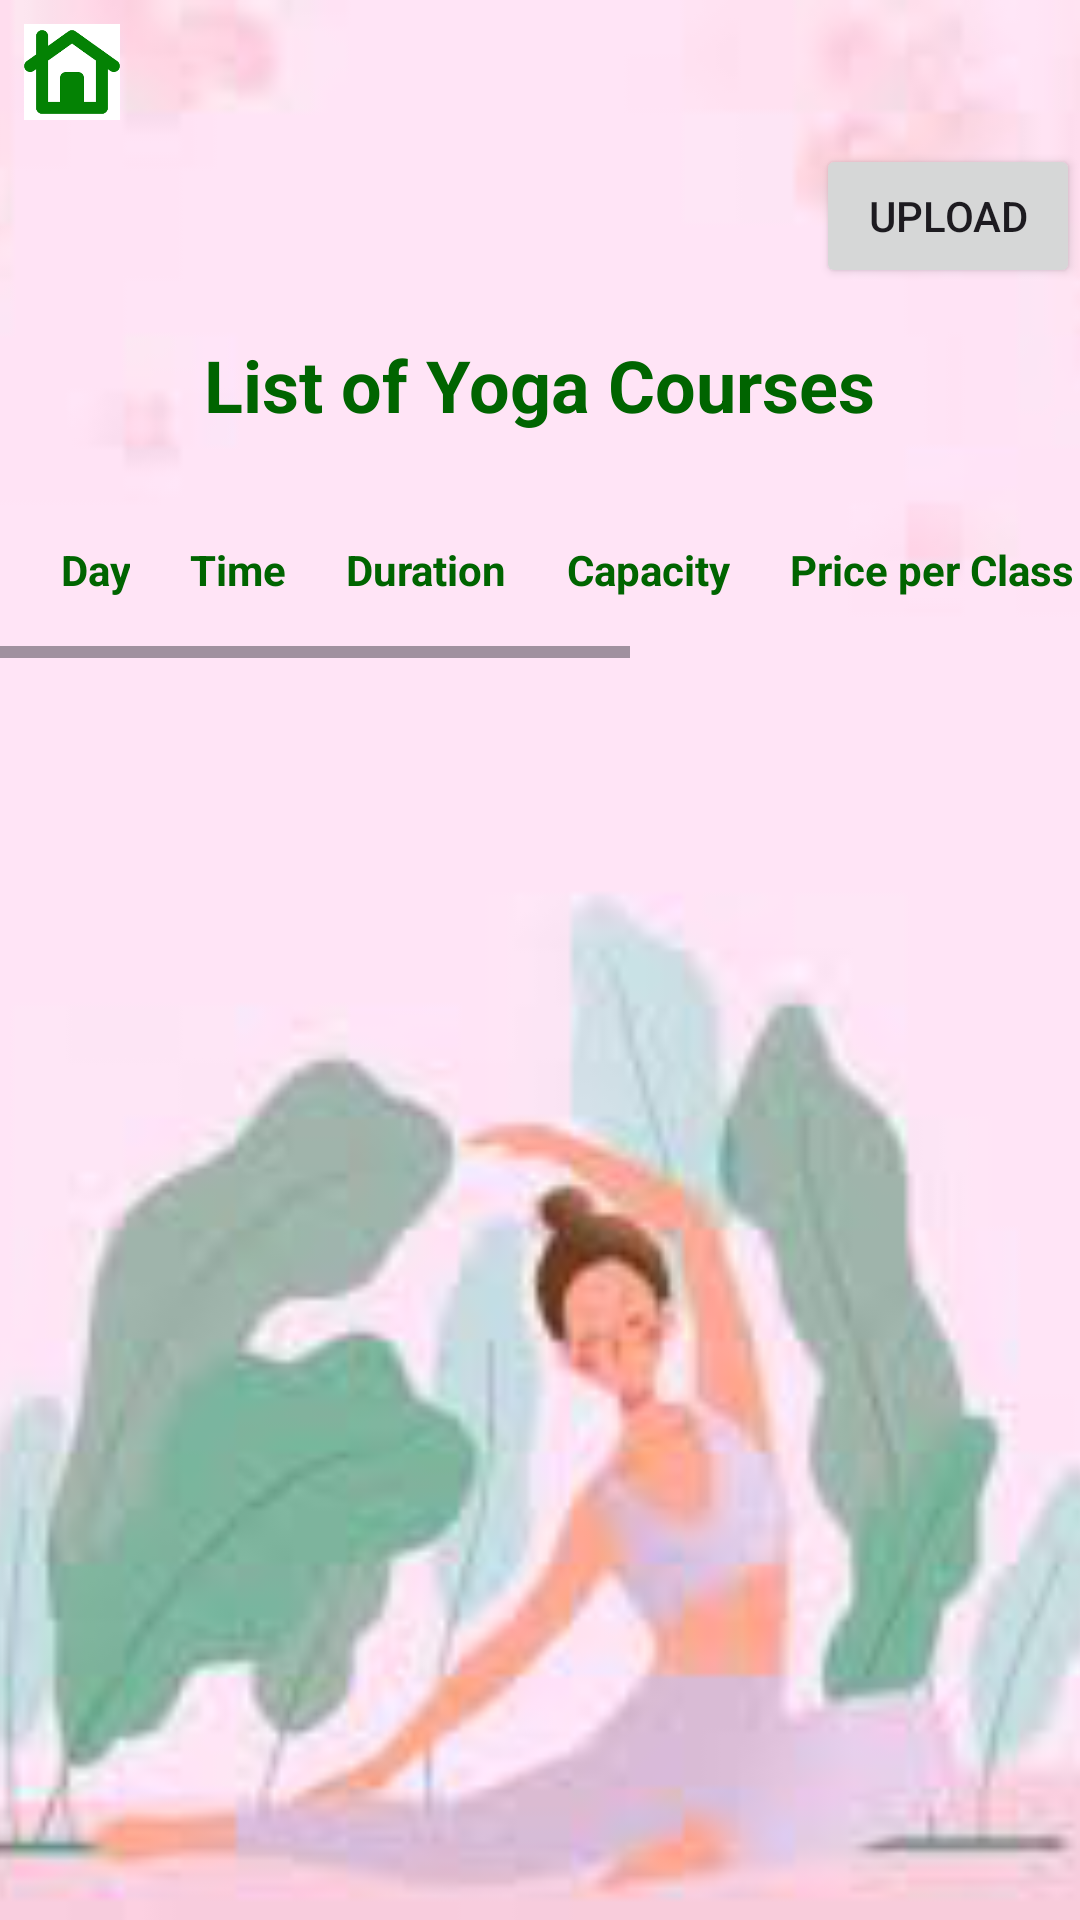

Where to tap for icons on this 1080px×1920px app screen, as (x=x, y=y):
Home Button: (x=72, y=72)
